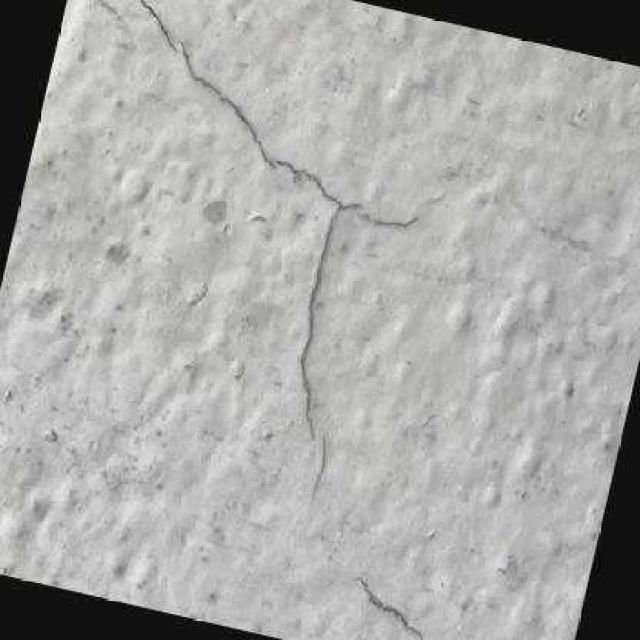D00: (134, 0, 342, 450), (354, 573, 423, 640)
